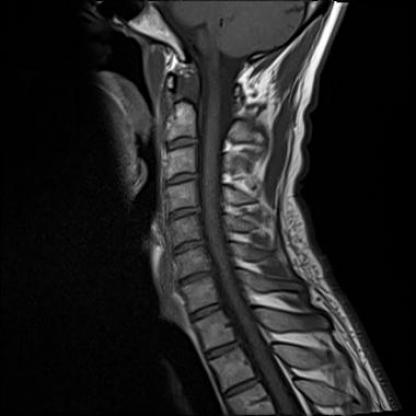Disc Bulgerotation: (175, 270, 216, 285), (166, 205, 200, 222)
